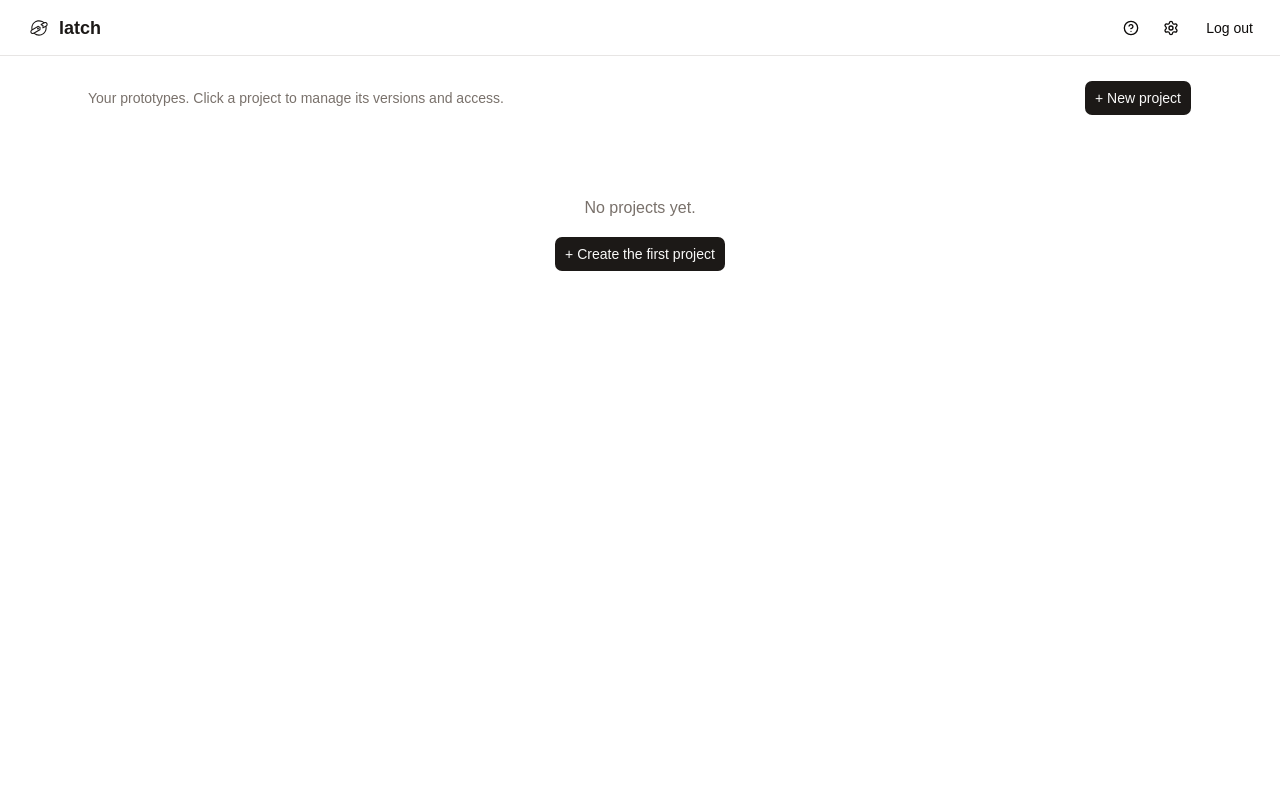
ListPage › opens the create form when the empty-state button is clicked
The image size is (1280, 800).
Expected: the text "No projects yet." is shown, [584,196,696,220]
Click the button "+ Create the first project". click: (640, 254)
box: [554,236,726,272]
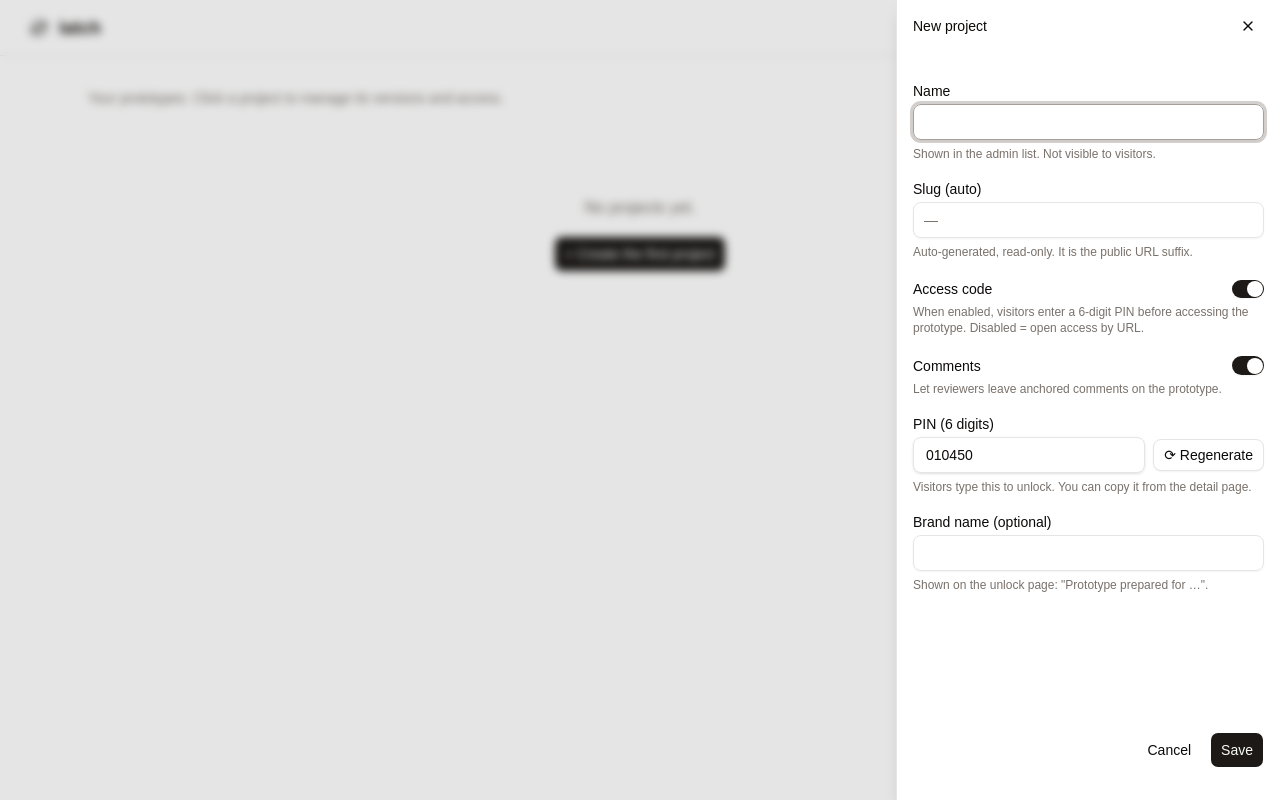
Expected: the heading "New project" is shown, [913,18,987,34]
